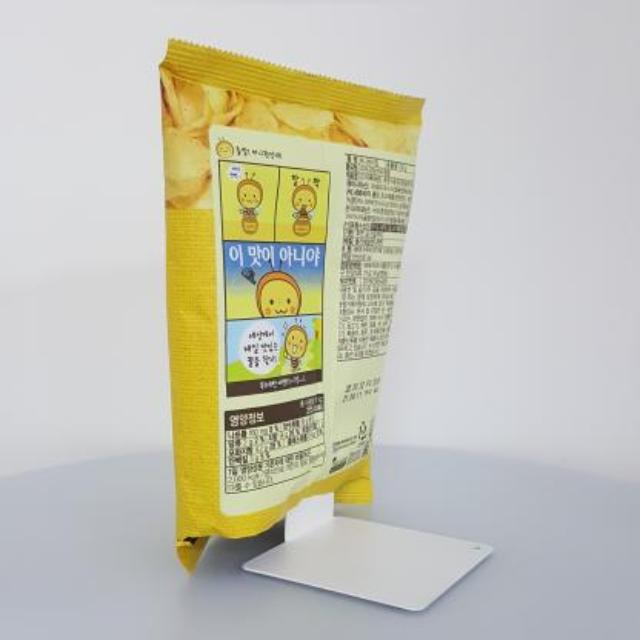snack_bag: (142, 22, 442, 586)
